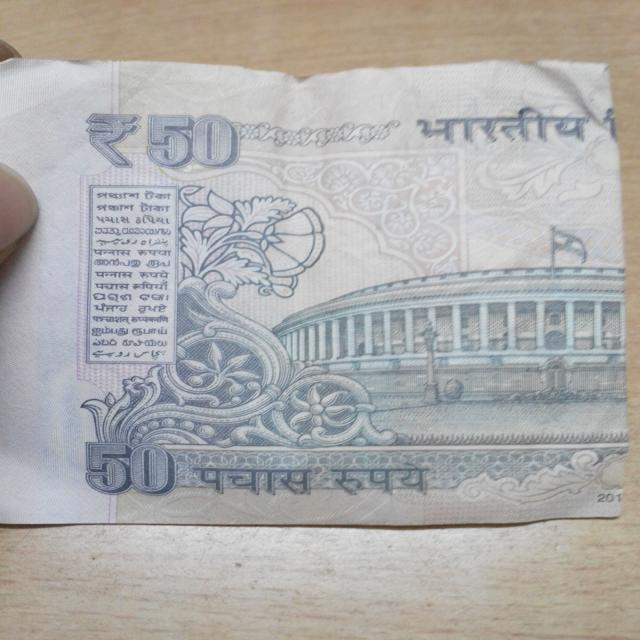50rs: (4, 56, 638, 526)
